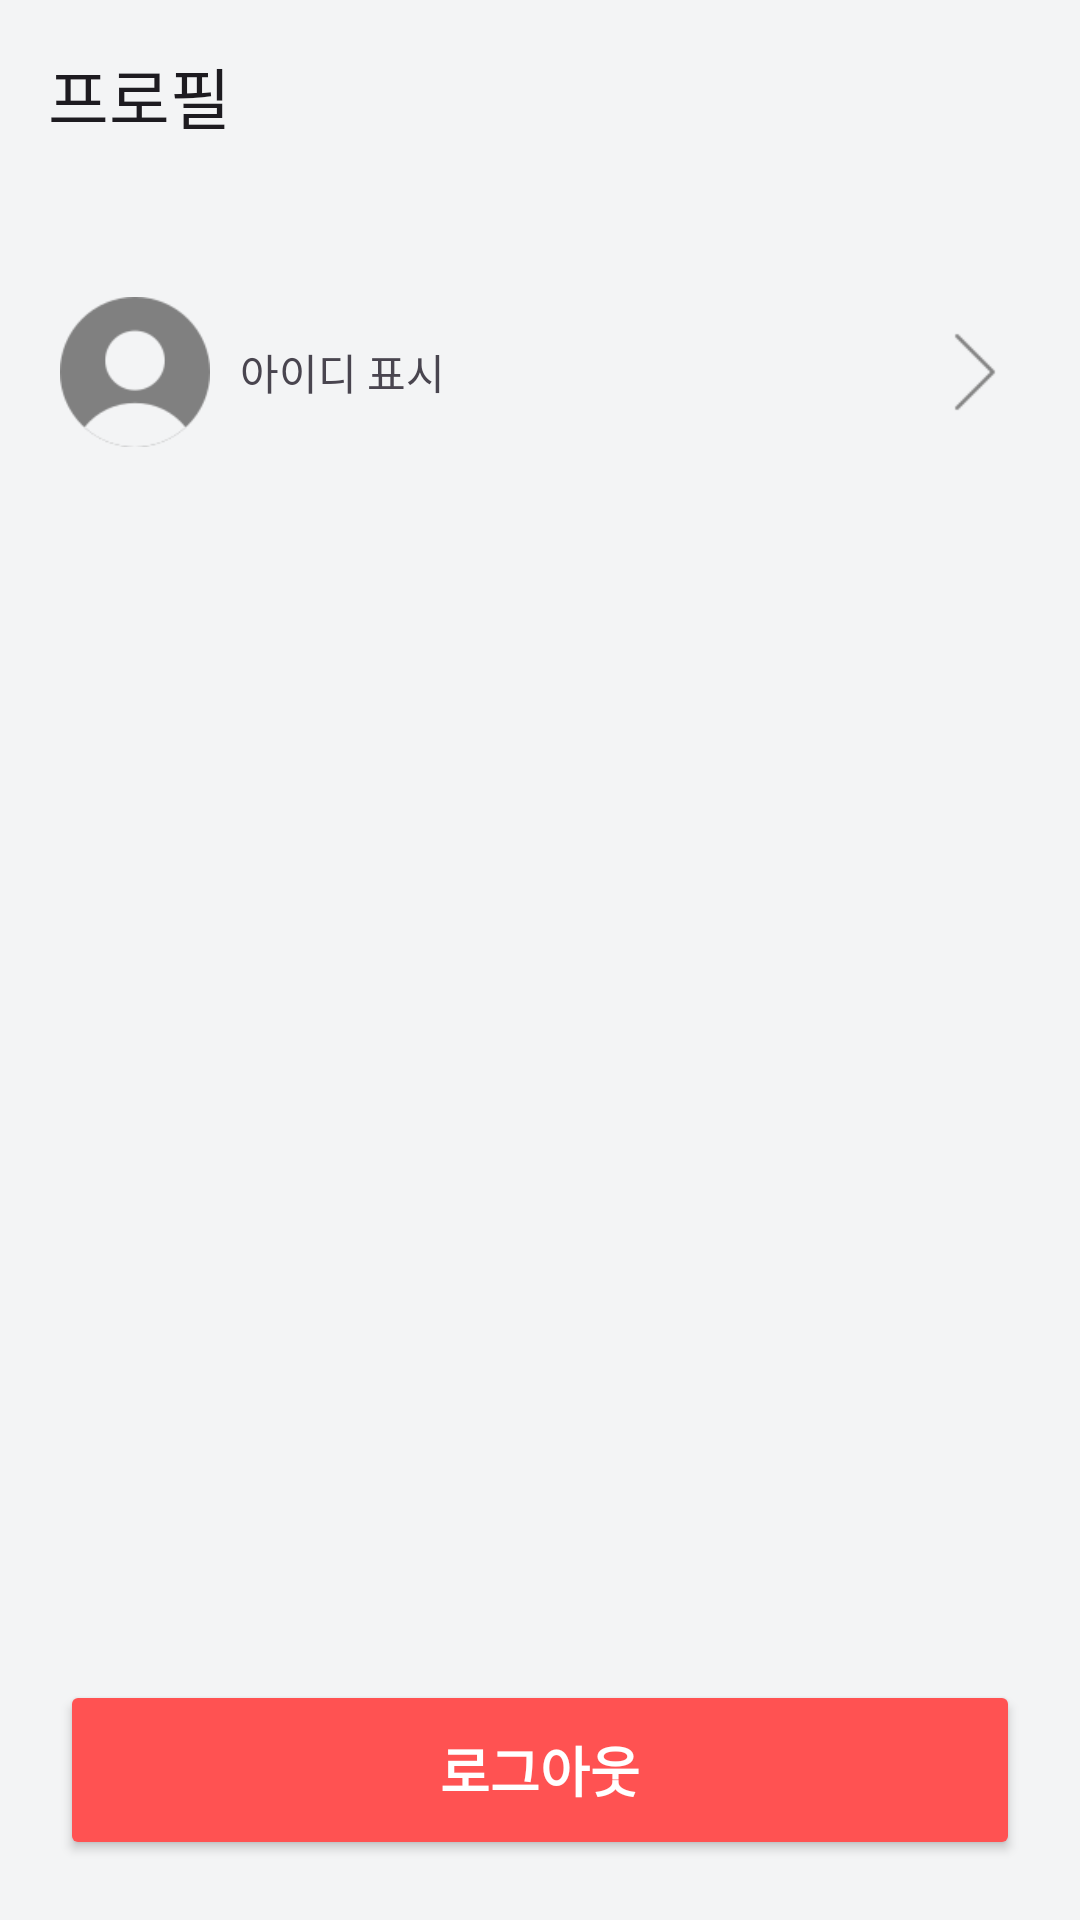

Locate icon controls on the screen. Image size 1080*1920, boxes as {"x1": x1, "y1": y1, "x2": x2, "y2": y2}.
next: {"x1": 955, "y1": 334, "x2": 995, "y2": 410}
profile: {"x1": 60, "y1": 297, "x2": 210, "y2": 447}
